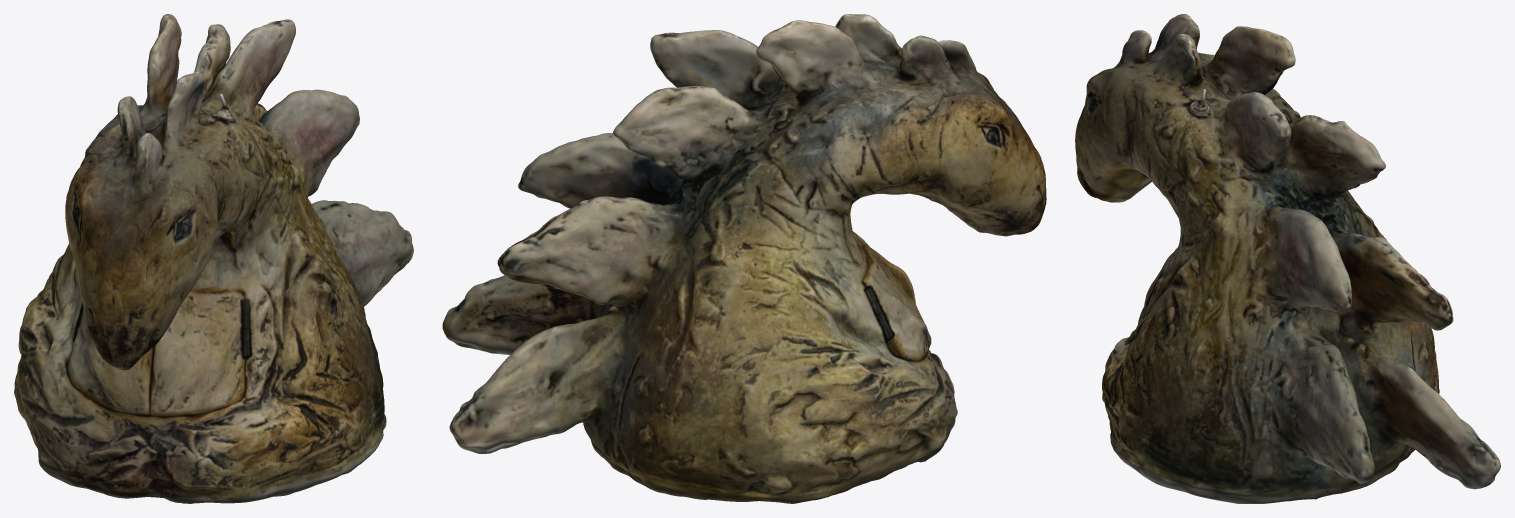
File: sculpture3_detail_20261117.glb
3 renders of one model, left to right at view 1: azimuth 30°, elevation 25°; view 2: azimuth 150°, elevation 25°; view 3: azimuth 270°, elevation 25°, orthographic. The views are drawn at different scales.
Parts seen in each view (by area): view 1: ObjectCapture; view 2: ObjectCapture; view 3: ObjectCapture.
Part boxes in pixels (box(x1,y1,x2,y2)): ObjectCapture: box(14, 14, 413, 503); ObjectCapture: box(442, 14, 1046, 503); ObjectCapture: box(1075, 14, 1500, 503).
Size of the model in its own units: 0.2463 by 0.22 by 0.2147.
2 materials, 1 textured.
